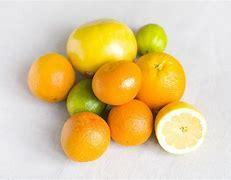orange: (60, 115, 130, 164), (19, 50, 78, 107), (162, 107, 222, 156), (109, 100, 168, 146), (138, 54, 192, 103), (95, 55, 142, 104)
